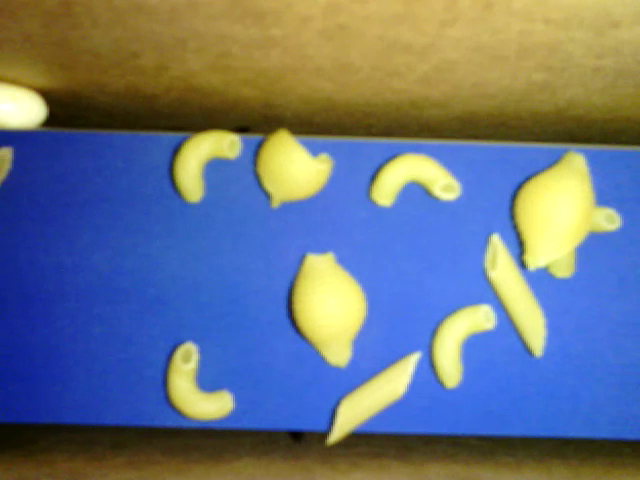elbow: (431, 303, 498, 391), (167, 340, 235, 421), (547, 207, 622, 279), (172, 128, 242, 203), (367, 153, 463, 207)
penne: (325, 351, 420, 445), (483, 232, 546, 356)
shell: (514, 149, 596, 271), (287, 249, 368, 369), (255, 128, 334, 209)
